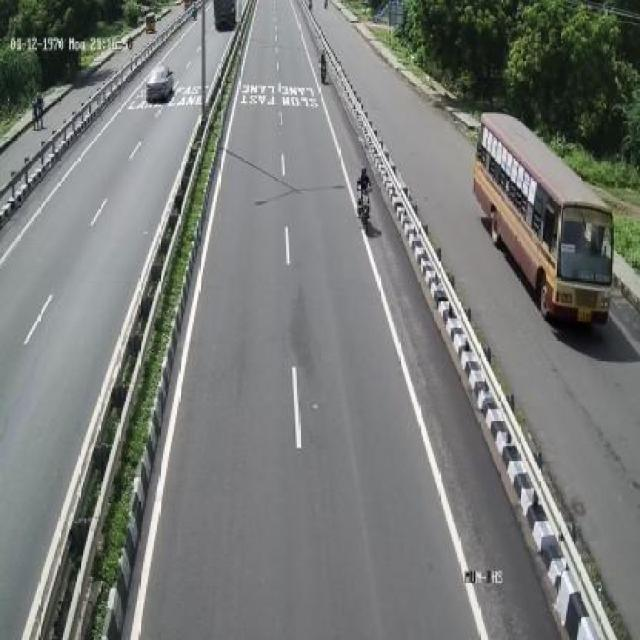car: (145, 63, 177, 105)
